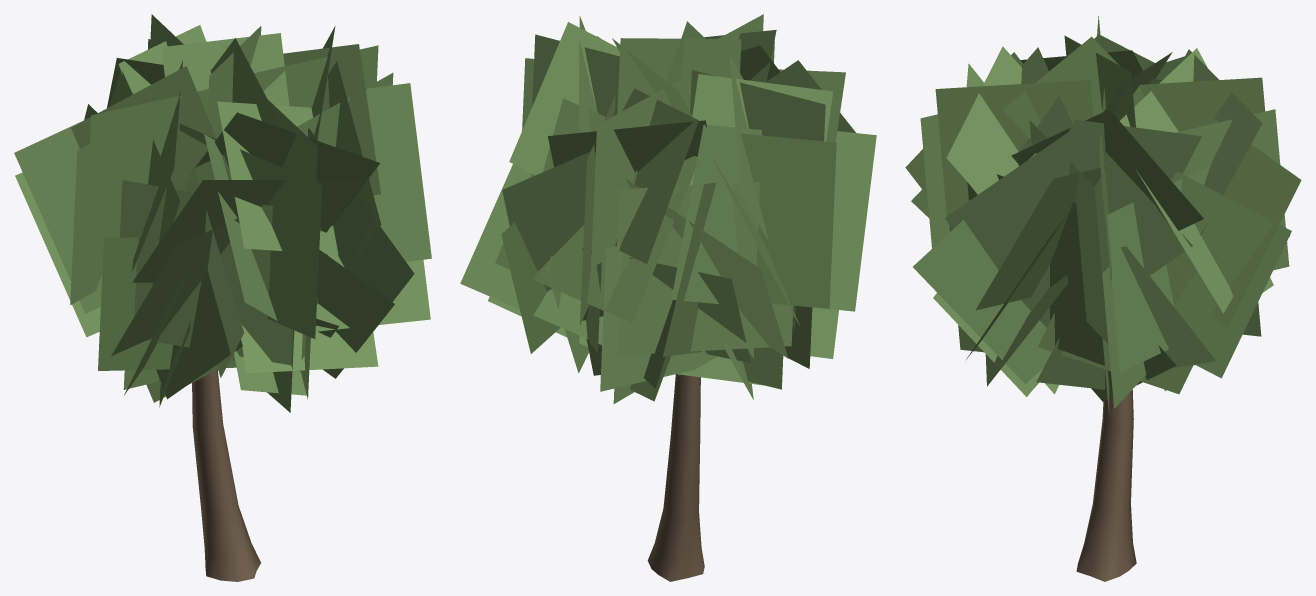
Rendered from linden.glb.
3 views of the same model, side by side, from view 1: azimuth 30°, elevation 25°; view 2: azimuth 150°, elevation 25°; view 3: azimuth 270°, elevation 25° (orthographic). The views are drawn at different scales.
Visible parts, largest first — view 1: Foliage, linden; view 2: Foliage, linden; view 3: Foliage, linden.
Part boxes in pixels (<box>): Foliage: <box>14,14,431,412</box>; linden: <box>192,369,260,581</box>; Foliage: <box>460,14,876,403</box>; linden: <box>647,111,704,581</box>; Foliage: <box>905,16,1301,415</box>; linden: <box>1076,390,1136,581</box>.
Size of the model in its own units: 5.94 by 9.77 by 6.62.
